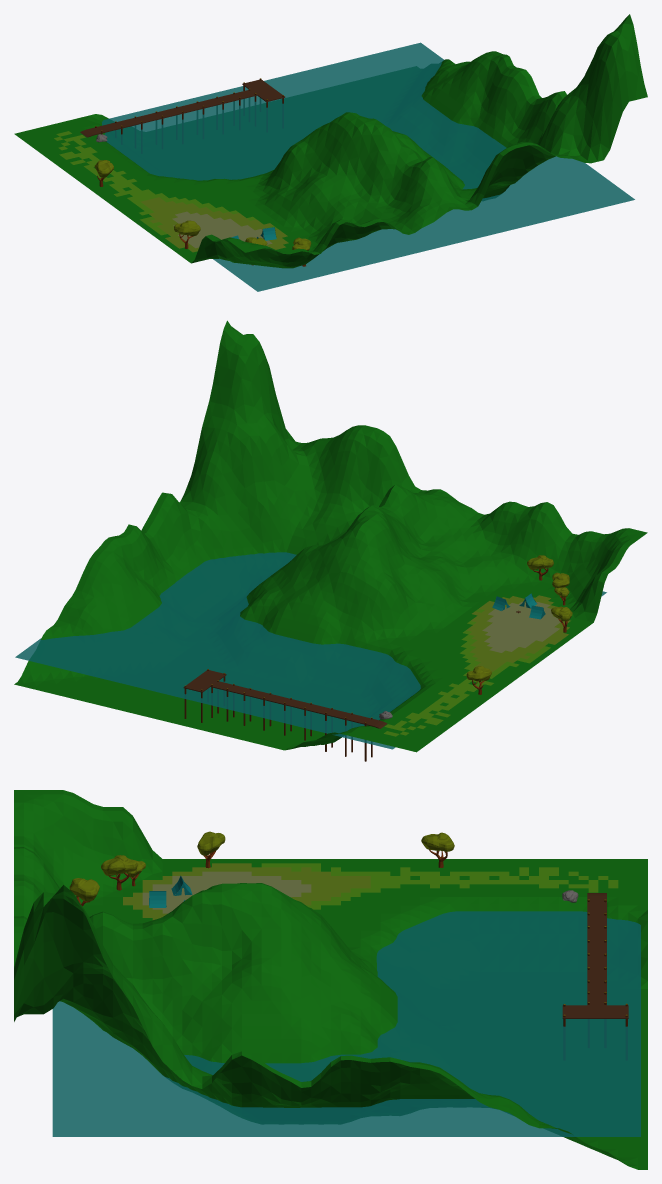
File: lake.glb
3 renders of one model, top to bottom at view 1: azimuth 30°, elevation 25°; view 2: azimuth 150°, elevation 25°; view 3: azimuth 270°, elevation 25°, orthographic. The views are drawn at different scales.
Visible parts, largest first — view 1: name 5, name 9, name 6, name 7, name 10, name 8, name 2; view 2: name 5, name 9, name 8, name 7, name 6, name 10, name 2, name 3; view 3: name 5, name 9, name 6, name 7, name 10, name 8, name 2, name 0.
Part boxes in pixels (x1=…): name 5: x1=14, y1=14, x2=647, y2=268; name 9: x1=102, y1=42, x2=634, y2=291; name 6: x1=54, y1=131, x2=276, y2=235; name 7: x1=140, y1=197, x2=288, y2=252; name 10: x1=80, y1=79, x2=285, y2=137; name 8: x1=172, y1=211, x2=272, y2=248; name 2: x1=94, y1=160, x2=311, y2=250; name 5: x1=14, y1=320, x2=647, y2=752; name 9: x1=15, y1=552, x2=606, y2=749; name 8: x1=482, y1=601, x2=560, y2=652; name 7: x1=466, y1=595, x2=570, y2=671; name 6: x1=384, y1=609, x2=550, y2=736; name 10: x1=183, y1=670, x2=387, y2=728; name 2: x1=466, y1=555, x2=572, y2=681; name 3: x1=184, y1=669, x2=372, y2=761; name 5: x1=14, y1=790, x2=647, y2=1169; name 9: x1=52, y1=911, x2=640, y2=1136; name 6: x1=261, y1=863, x2=618, y2=909; name 7: x1=123, y1=863, x2=370, y2=919; name 10: x1=562, y1=893, x2=628, y2=1018; name 8: x1=142, y1=871, x2=311, y2=913; name 2: x1=69, y1=831, x2=454, y2=901; name 0: x1=149, y1=875, x2=192, y2=907.
Bounding box in the file's own units: 0.0979 × 0.0496 × 0.0971.
